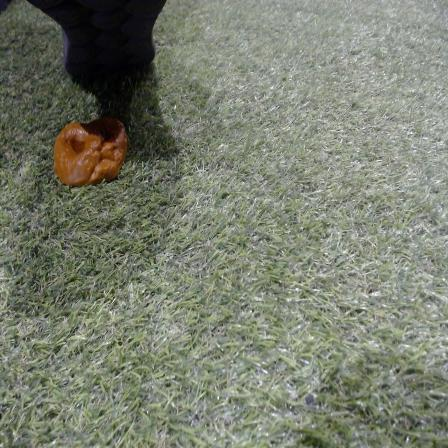dog-poop: (51, 119, 130, 183)
